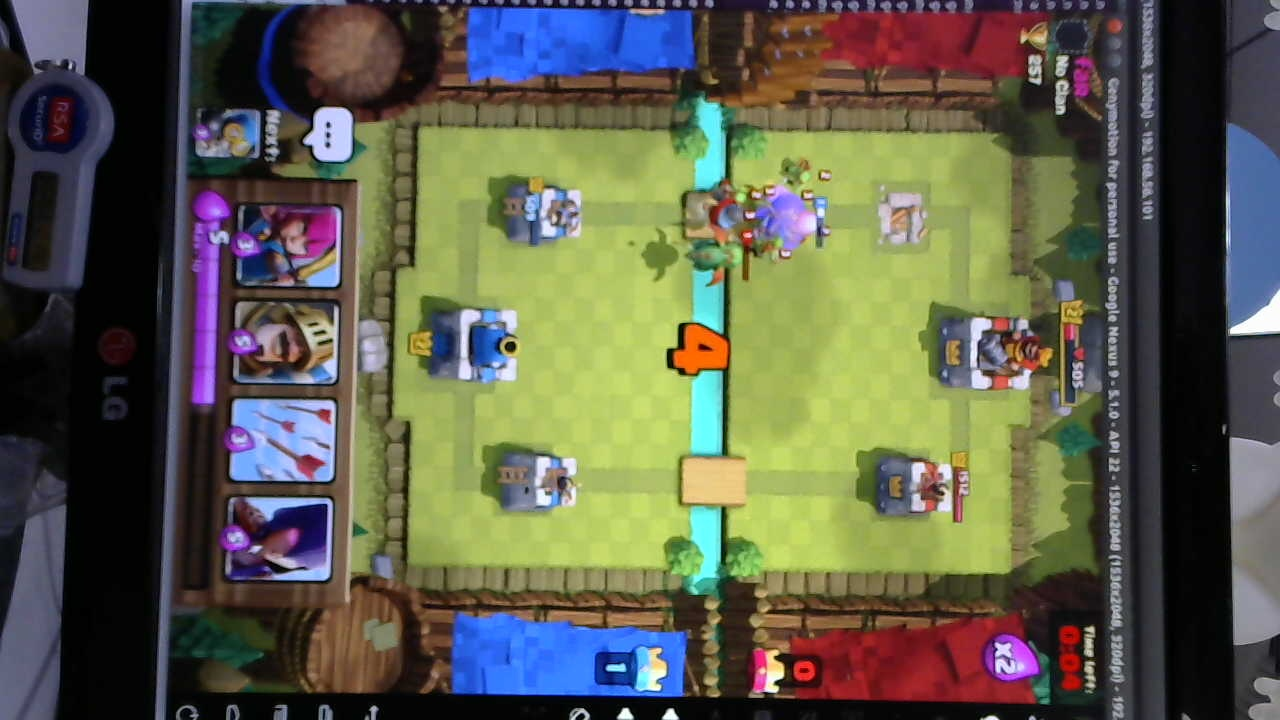arena: (491, 444, 584, 514), (508, 177, 585, 246)
darena: (872, 183, 930, 250)
dragon: (688, 230, 743, 286)
earena: (875, 451, 954, 520)
eking: (937, 306, 1043, 395)
giant: (763, 183, 812, 264)
king: (429, 299, 524, 389)
knight: (699, 191, 744, 239)
speargoblin: (777, 155, 817, 193)
